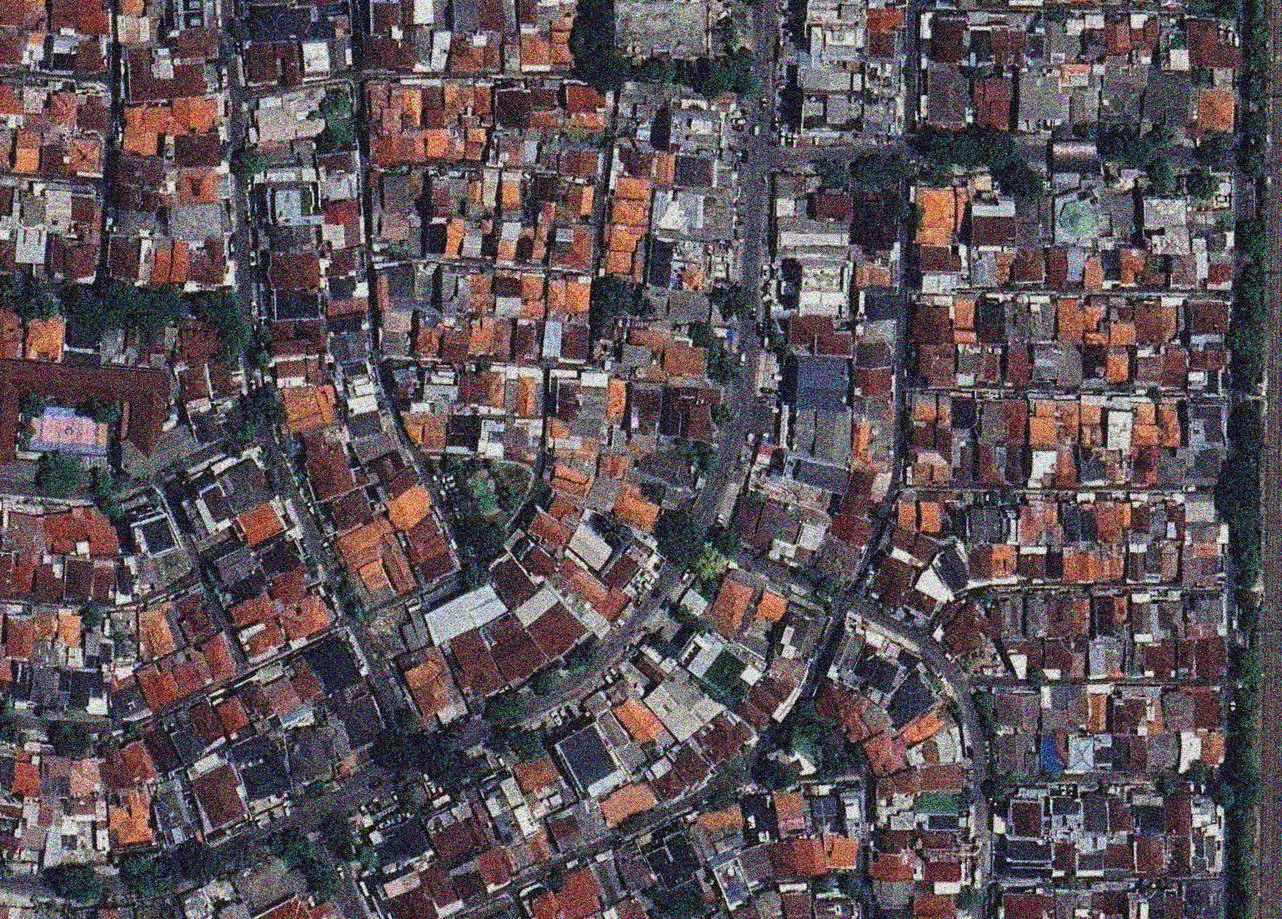building: (0, 358, 171, 465), (364, 75, 495, 167), (364, 75, 496, 166), (0, 75, 112, 181), (364, 77, 494, 166), (365, 80, 493, 165), (365, 80, 492, 165), (365, 80, 491, 165), (822, 615, 926, 710), (330, 511, 420, 611), (807, 668, 901, 759), (110, 404, 207, 492), (769, 170, 855, 265), (640, 661, 725, 746), (118, 93, 222, 156), (613, 0, 714, 64), (419, 577, 509, 647), (117, 521, 198, 598), (182, 747, 254, 833), (475, 769, 546, 856), (549, 715, 622, 795), (733, 662, 806, 739), (392, 508, 463, 587), (476, 611, 549, 687), (226, 728, 298, 805), (230, 846, 308, 917), (394, 642, 464, 721), (640, 738, 716, 810), (632, 435, 705, 508), (324, 678, 394, 754), (8, 661, 108, 714), (636, 821, 707, 895), (650, 94, 730, 158), (767, 829, 863, 882), (442, 626, 508, 703), (844, 409, 900, 497), (248, 85, 330, 145), (316, 148, 364, 250), (423, 801, 493, 870), (209, 446, 277, 517), (362, 805, 433, 873), (12, 130, 105, 181), (510, 750, 575, 822), (143, 772, 202, 850), (766, 602, 829, 675), (36, 808, 112, 868), (301, 630, 367, 699), (41, 503, 120, 560), (689, 704, 756, 771), (298, 426, 356, 503), (523, 597, 590, 663), (932, 595, 998, 661), (247, 1, 350, 43), (1179, 502, 1228, 590), (126, 48, 207, 101), (407, 357, 467, 428), (703, 567, 760, 640), (560, 509, 625, 573), (332, 513, 401, 572), (477, 546, 540, 610), (126, 597, 187, 663), (274, 588, 339, 649), (645, 237, 714, 294), (43, 218, 103, 283), (169, 480, 229, 545), (159, 0, 220, 62), (123, 498, 182, 562), (1097, 55, 1149, 127), (550, 551, 612, 611), (596, 532, 656, 594), (1139, 66, 1197, 130), (806, 0, 864, 62), (284, 722, 339, 787), (925, 538, 984, 598), (609, 689, 667, 750), (877, 670, 938, 728), (926, 538, 984, 598), (548, 862, 609, 919), (103, 784, 155, 850), (838, 461, 893, 523), (808, 530, 867, 587), (360, 25, 430, 73), (341, 363, 385, 439), (595, 776, 658, 829), (380, 480, 439, 536), (826, 489, 880, 550), (1017, 70, 1069, 133), (672, 622, 728, 680), (793, 356, 850, 412), (866, 552, 919, 612), (169, 585, 220, 647), (925, 61, 972, 128), (707, 847, 756, 911), (607, 480, 665, 534), (795, 261, 849, 319), (280, 382, 337, 436), (787, 313, 855, 358), (159, 707, 210, 766), (896, 700, 955, 751), (179, 879, 255, 918), (496, 83, 560, 129), (850, 191, 897, 253), (541, 457, 597, 509), (571, 368, 613, 437), (1143, 193, 1190, 254), (924, 720, 977, 774), (251, 531, 306, 583), (810, 405, 856, 467), (133, 656, 183, 713), (235, 497, 290, 548), (137, 719, 185, 777), (557, 80, 609, 133), (1051, 192, 1102, 246), (235, 613, 290, 663), (415, 858, 464, 914), (994, 837, 1053, 883), (1186, 17, 1239, 68), (1110, 685, 1163, 736), (101, 674, 151, 728), (493, 128, 560, 168), (190, 469, 236, 527), (41, 752, 100, 797), (584, 849, 631, 905), (508, 534, 560, 584), (264, 563, 317, 612), (210, 540, 263, 589), (46, 35, 109, 76), (789, 454, 852, 495), (914, 187, 957, 247), (89, 739, 134, 796), (266, 319, 327, 361), (627, 638, 679, 687), (196, 630, 243, 684), (180, 393, 226, 448), (246, 42, 303, 86), (325, 486, 377, 534), (509, 581, 561, 629), (259, 671, 307, 723), (738, 789, 782, 845), (754, 497, 804, 546), (1056, 297, 1107, 345), (510, 750, 562, 797), (971, 74, 1014, 130), (908, 563, 956, 613), (548, 220, 595, 271), (994, 730, 1040, 782), (1056, 495, 1101, 547), (611, 844, 656, 896), (282, 653, 326, 706), (542, 806, 588, 856), (183, 697, 228, 748), (500, 414, 545, 465), (210, 688, 254, 740), (116, 735, 160, 787), (167, 203, 227, 241), (1127, 540, 1180, 583), (693, 801, 747, 843), (447, 33, 502, 74), (1041, 683, 1087, 732), (970, 197, 1015, 247), (233, 674, 277, 725), (524, 507, 575, 551), (568, 794, 612, 845), (472, 842, 516, 893), (1096, 188, 1136, 244), (175, 318, 220, 367), (991, 690, 1041, 733), (266, 251, 321, 290), (226, 590, 277, 632), (49, 0, 110, 35), (172, 128, 224, 169), (503, 366, 544, 418), (770, 787, 811, 839), (626, 381, 664, 437), (447, 34, 501, 73), (350, 423, 398, 466), (968, 542, 1018, 583), (134, 323, 185, 363), (931, 13, 971, 64), (647, 763, 693, 807), (802, 789, 845, 836), (350, 423, 398, 465), (163, 649, 205, 697), (1186, 590, 1228, 638), (736, 841, 777, 890), (727, 489, 766, 540), (1134, 299, 1178, 344), (1178, 637, 1225, 679), (1015, 197, 1052, 249), (387, 883, 440, 919), (0, 510, 44, 553), (910, 301, 953, 345), (1135, 639, 1179, 682), (114, 152, 165, 189), (362, 35, 413, 72), (837, 782, 870, 839), (1187, 401, 1226, 449), (253, 895, 334, 918), (547, 276, 590, 319), (963, 501, 1005, 545), (1006, 635, 1048, 679), (94, 328, 135, 373), (539, 488, 584, 529), (1195, 87, 1236, 132), (915, 343, 956, 388), (24, 315, 64, 361), (377, 465, 423, 505), (583, 470, 623, 516), (403, 412, 449, 452), (326, 277, 368, 320), (854, 316, 898, 357), (1043, 21, 1083, 66), (152, 238, 191, 284), (1048, 139, 1099, 174), (188, 238, 226, 284), (30, 557, 68, 603), (592, 583, 633, 625), (1104, 245, 1146, 286), (1091, 733, 1133, 774), (327, 328, 372, 366), (1094, 499, 1132, 543), (491, 216, 523, 268), (991, 594, 1026, 641), (751, 587, 791, 628), (1088, 637, 1127, 679), (908, 447, 951, 485), (1092, 594, 1130, 637), (495, 85, 532, 129), (661, 340, 705, 377), (1181, 448, 1225, 485), (516, 272, 549, 321), (74, 92, 113, 133), (1184, 879, 1225, 918), (444, 412, 481, 455), (107, 235, 142, 280), (409, 315, 444, 360), (561, 82, 607, 116), (643, 264, 682, 304), (613, 143, 655, 180), (379, 170, 414, 214), (1161, 688, 1196, 732), (1028, 398, 1057, 451), (645, 238, 675, 289), (1004, 837, 1055, 867), (379, 866, 424, 900), (864, 736, 902, 776), (147, 237, 178, 286), (439, 318, 472, 364), (176, 168, 218, 204), (246, 43, 282, 85), (654, 190, 690, 232), (854, 256, 896, 292), (1001, 890, 1055, 918), (0, 82, 43, 117), (272, 289, 320, 320), (451, 866, 489, 905), (67, 670, 104, 710), (574, 603, 614, 640), (62, 556, 94, 602), (1191, 685, 1223, 731), (66, 897, 136, 918), (0, 0, 47, 31), (626, 322, 673, 353), (788, 407, 819, 454), (64, 137, 102, 175), (176, 363, 212, 403), (852, 389, 893, 424), (1191, 830, 1222, 876), (558, 146, 601, 179), (1056, 298, 1087, 343), (62, 319, 103, 353), (63, 240, 97, 281), (675, 155, 716, 189), (1009, 798, 1043, 839), (1187, 301, 1229, 334), (1133, 345, 1165, 388), (1147, 730, 1179, 773), (990, 28, 1026, 66), (270, 224, 317, 253), (385, 263, 414, 310), (1041, 638, 1074, 679), (118, 126, 160, 158), (518, 273, 547, 319), (1081, 789, 1110, 835), (13, 226, 47, 265), (12, 29, 46, 68), (389, 361, 422, 401), (877, 767, 921, 797), (300, 40, 332, 81), (12, 751, 41, 796), (4, 615, 33, 660), (917, 244, 962, 273), (977, 299, 1006, 344), (668, 291, 710, 322), (552, 433, 600, 460), (44, 185, 72, 231), (617, 340, 656, 373), (609, 196, 649, 228), (8, 552, 37, 596), (920, 764, 964, 793), (1102, 16, 1133, 57), (74, 37, 108, 74), (376, 210, 410, 247), (563, 181, 596, 219), (467, 315, 496, 358), (1136, 834, 1165, 877), (807, 0, 861, 23), (813, 891, 859, 918), (560, 322, 591, 362), (1004, 300, 1032, 344), (1130, 598, 1158, 642), (520, 890, 564, 918), (476, 417, 506, 458), (801, 67, 850, 92), (1039, 730, 1064, 779), (903, 587, 940, 620), (186, 644, 215, 686), (871, 852, 913, 881), (519, 33, 551, 71), (979, 400, 1006, 445), (1164, 792, 1191, 837), (912, 891, 957, 918), (69, 757, 100, 796), (116, 185, 159, 213), (1004, 344, 1032, 387), (955, 344, 983, 387), (604, 376, 629, 424), (659, 387, 683, 437), (952, 296, 977, 344), (863, 29, 898, 63), (977, 444, 1006, 485), (0, 798, 22, 852), (1062, 547, 1095, 583), (257, 163, 316, 183), (1090, 887, 1128, 918), (114, 210, 156, 238), (478, 368, 506, 410), (1131, 445, 1159, 487), (90, 558, 116, 603), (1024, 592, 1050, 637), (1043, 639, 1073, 678), (686, 402, 715, 442), (853, 367, 893, 396), (16, 819, 49, 854), (1003, 398, 1028, 444), (494, 276, 522, 317), (604, 223, 641, 254), (272, 358, 310, 388), (614, 173, 652, 203), (1069, 86, 1099, 124), (1056, 345, 1083, 387), (1047, 595, 1074, 637), (866, 3, 905, 32), (1157, 599, 1186, 638), (1085, 687, 1109, 734), (367, 0, 399, 35), (815, 189, 851, 220), (510, 802, 541, 838), (550, 16, 571, 69), (1066, 735, 1096, 772), (1019, 504, 1046, 545), (873, 880, 914, 907), (0, 308, 22, 358), (0, 802, 22, 852), (1161, 346, 1187, 388), (1157, 448, 1185, 487), (1107, 791, 1133, 833), (886, 523, 921, 554), (825, 95, 861, 125), (513, 320, 538, 363), (533, 200, 558, 243), (1177, 730, 1202, 773), (966, 29, 994, 67), (117, 15, 150, 47), (1133, 402, 1157, 446), (795, 520, 827, 553), (780, 888, 814, 919), (468, 273, 493, 315), (1030, 301, 1055, 343), (597, 450, 632, 480), (1078, 344, 1107, 380), (523, 828, 552, 864), (1106, 409, 1132, 449), (1158, 402, 1181, 447), (540, 317, 564, 360), (916, 791, 959, 815), (1014, 248, 1044, 282), (651, 150, 677, 189), (1119, 247, 1145, 286), (1104, 346, 1130, 385), (1055, 444, 1078, 488), (0, 27, 25, 67), (19, 189, 46, 226), (274, 188, 301, 225), (1079, 448, 1106, 485), (581, 687, 612, 719), (491, 317, 514, 360), (556, 379, 579, 422), (979, 603, 1005, 641), (601, 248, 635, 277), (1130, 16, 1159, 50), (48, 89, 76, 124), (864, 292, 899, 320), (1104, 836, 1132, 871), (800, 93, 826, 130), (855, 342, 892, 368), (1167, 836, 1191, 876), (39, 141, 67, 175), (891, 498, 919, 532), (429, 29, 451, 72), (0, 891, 35, 918), (1058, 399, 1081, 440), (208, 360, 234, 396), (457, 370, 483, 406), (379, 329, 410, 359), (1134, 804, 1165, 834), (1185, 493, 1217, 522), (971, 249, 996, 286), (918, 500, 943, 537), (451, 0, 479, 33), (438, 270, 458, 316), (500, 170, 523, 209), (1170, 255, 1197, 288), (528, 227, 552, 264), (1190, 346, 1227, 370), (1033, 344, 1057, 381), (345, 391, 379, 417), (880, 827, 914, 853), (323, 199, 358, 224), (1200, 731, 1225, 766), (1192, 797, 1221, 827), (398, 132, 426, 163), (767, 537, 798, 565), (478, 0, 505, 32), (1164, 502, 1186, 541), (63, 795, 97, 820), (57, 612, 81, 647), (444, 218, 465, 258), (517, 0, 545, 30), (1047, 247, 1067, 289), (860, 101, 887, 132), (950, 397, 977, 428), (1030, 448, 1057, 479), (980, 346, 1002, 384), (924, 860, 962, 882), (479, 168, 499, 209), (464, 179, 484, 220), (754, 889, 782, 918), (910, 393, 937, 423), (402, 86, 421, 127), (380, 309, 412, 333), (1189, 208, 1222, 231), (1079, 394, 1104, 424), (71, 194, 95, 225), (449, 173, 468, 212), (460, 226, 483, 258), (328, 248, 355, 275), (1018, 554, 1046, 580), (1005, 444, 1024, 482), (921, 830, 955, 851), (1107, 453, 1130, 484), (1109, 320, 1136, 346), (909, 422, 935, 449), (216, 898, 251, 918), (1141, 889, 1165, 918), (1053, 842, 1076, 872), (1066, 248, 1086, 282), (1080, 28, 1105, 55), (328, 276, 356, 300), (1205, 230, 1234, 253), (33, 614, 57, 641), (425, 129, 448, 157), (425, 224, 446, 254), (91, 820, 110, 853), (1207, 263, 1232, 288), (936, 423, 952, 462), (0, 747, 14, 791), (84, 630, 101, 666), (514, 235, 535, 264), (869, 62, 893, 87), (536, 175, 559, 201), (687, 194, 704, 229), (1077, 853, 1104, 875), (1056, 891, 1078, 918), (1146, 697, 1162, 734), (1130, 504, 1150, 533), (0, 128, 13, 171), (0, 239, 16, 273), (22, 797, 40, 827), (494, 277, 521, 297), (1052, 795, 1079, 815), (148, 502, 171, 524), (413, 0, 434, 24), (407, 225, 422, 258), (888, 811, 915, 829), (37, 800, 54, 828), (480, 232, 496, 261), (0, 184, 14, 215), (118, 0, 144, 16), (1043, 500, 1059, 525), (338, 45, 354, 68), (931, 466, 950, 485), (867, 395, 891, 404), (129, 523, 141, 535), (630, 103, 638, 117), (1143, 738, 1146, 772), (881, 357, 891, 365), (913, 423, 924, 430), (942, 425, 949, 433), (913, 396, 920, 403)
tree: (402, 713, 488, 804), (57, 271, 145, 340), (643, 503, 716, 575), (769, 694, 839, 766), (118, 277, 192, 341), (568, 41, 636, 100), (164, 831, 227, 894), (364, 722, 426, 782), (563, 0, 620, 62), (807, 730, 869, 787), (116, 846, 178, 901), (1215, 453, 1264, 522), (914, 124, 983, 173), (988, 155, 1051, 208), (1093, 124, 1158, 174), (6, 277, 62, 333), (207, 309, 256, 368), (586, 270, 641, 322), (1225, 528, 1276, 580), (215, 831, 268, 881), (32, 449, 86, 497), (267, 822, 317, 872), (1233, 262, 1276, 320), (316, 808, 359, 866), (190, 283, 242, 330), (643, 881, 709, 918), (555, 635, 608, 681), (82, 459, 132, 507), (487, 460, 532, 512), (237, 383, 284, 432), (788, 564, 847, 603), (41, 717, 93, 761), (697, 345, 744, 392), (442, 483, 488, 531), (850, 154, 912, 189), (45, 865, 102, 903), (967, 128, 1018, 170), (1222, 500, 1269, 545), (700, 518, 747, 563), (306, 119, 353, 164), (1228, 401, 1264, 459), (299, 855, 340, 905), (687, 543, 731, 588), (659, 598, 707, 639), (523, 659, 567, 703), (1226, 312, 1269, 357), (688, 57, 735, 98), (226, 142, 270, 184), (456, 521, 506, 557), (1235, 213, 1270, 264), (970, 686, 1004, 738), (835, 869, 878, 910), (692, 784, 742, 819), (590, 510, 632, 551), (708, 748, 754, 785), (496, 726, 544, 761), (670, 437, 717, 472), (483, 688, 525, 727), (1141, 153, 1181, 193), (712, 284, 753, 321), (633, 58, 689, 85), (1226, 702, 1262, 743), (753, 758, 796, 792), (812, 156, 852, 192), (1231, 350, 1264, 393), (639, 629, 684, 659), (941, 784, 979, 819), (1226, 738, 1259, 778), (1205, 776, 1241, 812), (977, 771, 1013, 807), (1242, 40, 1275, 79), (1230, 646, 1261, 687), (727, 67, 762, 103), (707, 16, 741, 52), (1140, 120, 1175, 154), (1186, 169, 1219, 204), (582, 303, 615, 337), (93, 490, 128, 522), (1229, 826, 1255, 868), (719, 679, 752, 712), (863, 496, 896, 529), (319, 86, 351, 120), (762, 328, 793, 363), (1181, 758, 1213, 791), (243, 342, 275, 375), (1229, 771, 1258, 807), (1019, 663, 1051, 695), (625, 293, 658, 324), (1241, 107, 1271, 141), (1241, 70, 1267, 109), (687, 321, 723, 349), (695, 679, 730, 707), (86, 398, 121, 426), (635, 478, 668, 507), (1238, 143, 1265, 178), (458, 561, 489, 591), (436, 451, 472, 476), (806, 873, 843, 897), (394, 783, 420, 817), (0, 273, 25, 308), (707, 399, 737, 428), (952, 884, 983, 912), (1243, 16, 1268, 50), (231, 418, 260, 447), (986, 764, 1026, 785), (224, 16, 252, 46), (392, 706, 419, 737), (1040, 1, 1074, 25), (887, 192, 915, 221), (918, 164, 953, 187), (1050, 869, 1083, 893), (1208, 0, 1242, 23), (725, 47, 753, 74), (1238, 0, 1267, 26), (17, 394, 47, 419), (158, 457, 190, 480), (1233, 566, 1261, 592), (247, 321, 273, 349), (959, 63, 995, 83), (1229, 801, 1256, 827), (334, 572, 356, 602), (1232, 686, 1257, 712), (343, 598, 368, 624), (24, 697, 50, 722), (974, 585, 999, 610), (252, 447, 277, 472), (266, 471, 289, 498), (0, 719, 23, 746), (377, 242, 405, 264), (1181, 0, 1215, 18), (213, 37, 232, 69), (1238, 609, 1260, 636), (355, 843, 377, 870), (298, 780, 325, 802), (944, 700, 966, 726), (1235, 863, 1254, 893), (13, 424, 34, 451), (151, 900, 181, 918), (1189, 67, 1213, 89), (1233, 895, 1255, 918), (80, 606, 103, 628), (1070, 124, 1098, 142), (992, 487, 1017, 507), (697, 578, 717, 603), (1155, 774, 1175, 796), (303, 556, 321, 579), (122, 721, 141, 740), (223, 441, 243, 459), (217, 140, 231, 162), (131, 474, 153, 488), (142, 487, 159, 504), (0, 858, 12, 881), (0, 698, 13, 716)
